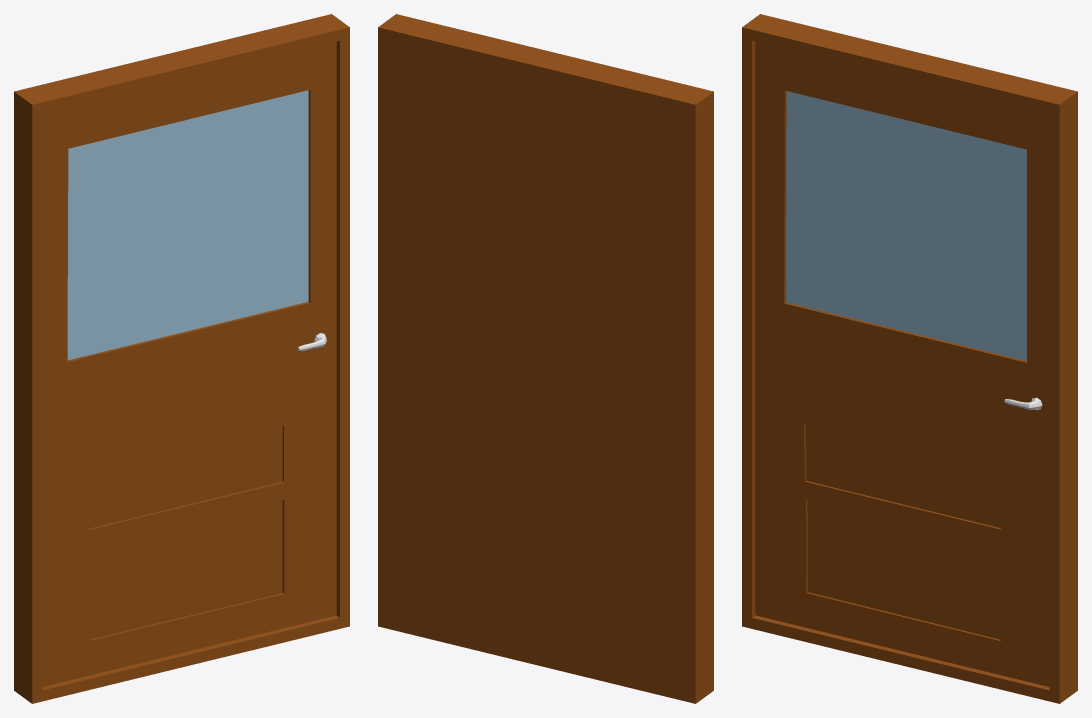
Rendered from door.gltf.
3 renders of one model, left to right at view 1: azimuth 30°, elevation 25°; view 2: azimuth 150°, elevation 25°; view 3: azimuth 330°, elevation 25°, orthographic.
Parts seen in each view (by area): view 1: Brown Door; view 2: Brown Door; view 3: Brown Door.
Part boxes in pixels (x1,y1,x2,y2): Brown Door: (14,14,349,703); Brown Door: (378,14,713,703); Brown Door: (742,14,1077,703).
Bounding box in the file's own units: 1.98 × 3.56 × 0.2269.
